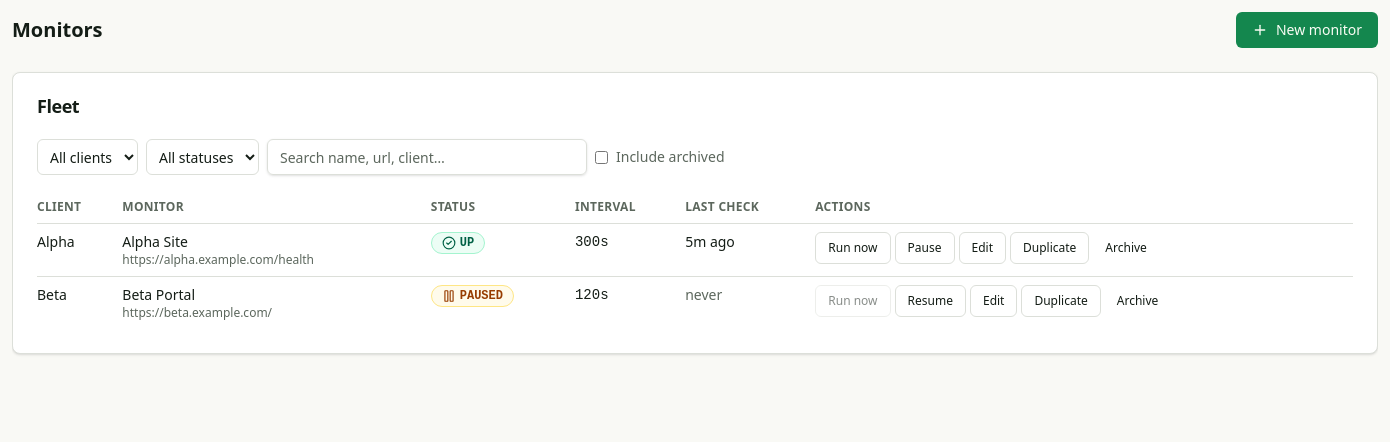
it: MonitorsPage actions › run check now POSTs to the #14 endpoint and surfaces the queued receipt
Click the button "Run now" in the row of "Alpha Site" at x=853, y=248, box [815,232,891,264]
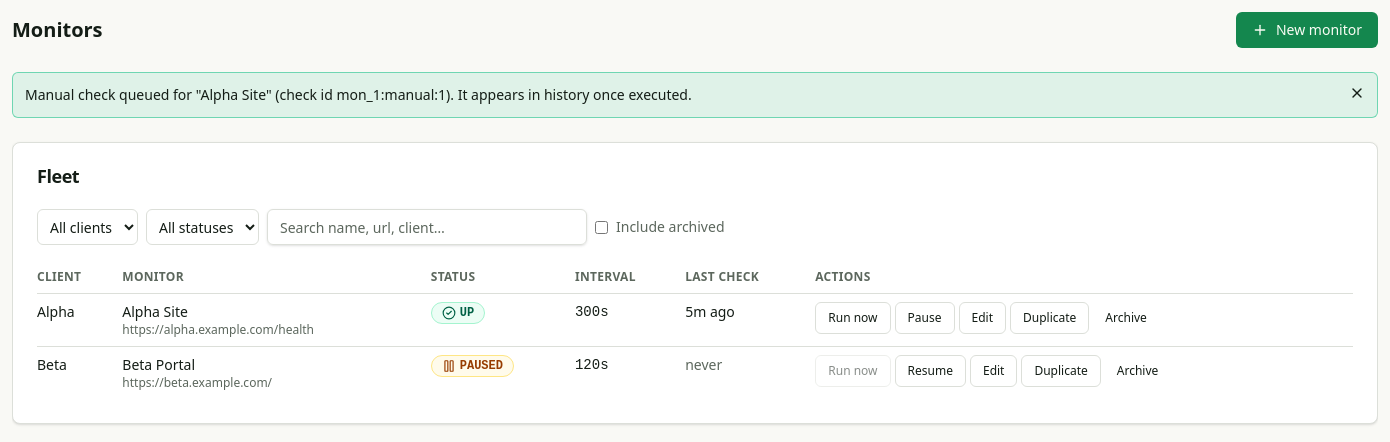
expect the button "Run now" in the row of "Beta Portal" is disabled: met, box [815,355,891,387]
expect the text "Manual check queued for \"Alpha Site\"" is shown: met, box [25,85,692,104]
